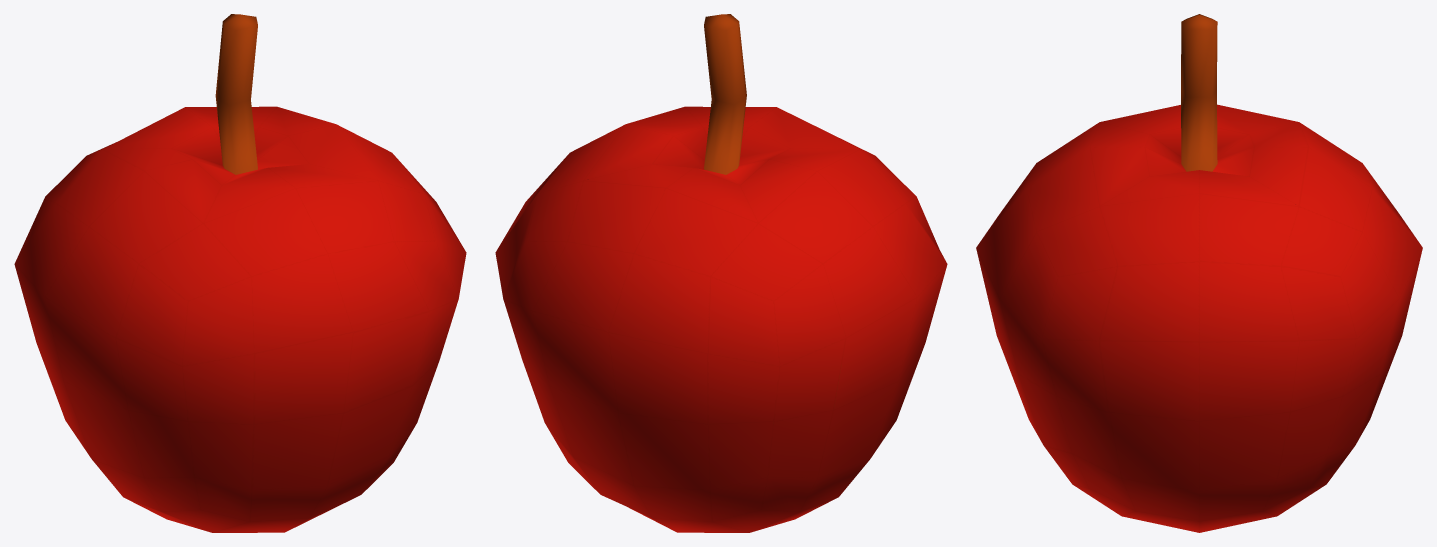
File: Apple_Final.fbx
3 renders of one model, left to right at view 1: azimuth 30°, elevation 25°; view 2: azimuth 150°, elevation 25°; view 3: azimuth 270°, elevation 25°, orthographic.
Parts seen in each view (by area): view 1: Cube; view 2: Cube; view 3: Cube.
Boxes of the visible parts, x1=… form: Cube: x1=14, y1=14, x2=466, y2=532; Cube: x1=495, y1=14, x2=947, y2=532; Cube: x1=976, y1=14, x2=1422, y2=532.
Bounding box in the file's own units: 290 × 345 × 290.
